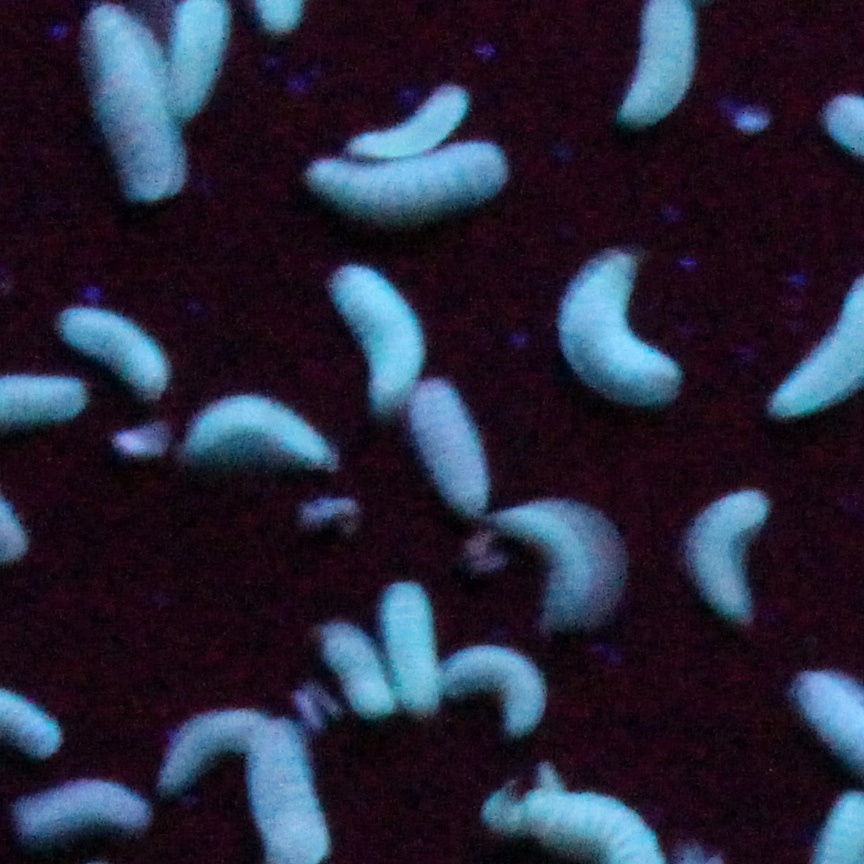larve: (542, 240, 694, 424), (493, 492, 632, 638), (301, 144, 518, 233), (316, 256, 430, 416), (181, 393, 341, 487), (401, 387, 510, 524), (670, 481, 770, 630), (370, 573, 458, 727), (335, 67, 473, 164), (53, 301, 176, 404), (435, 644, 558, 744), (310, 613, 393, 744), (1, 773, 158, 841)
